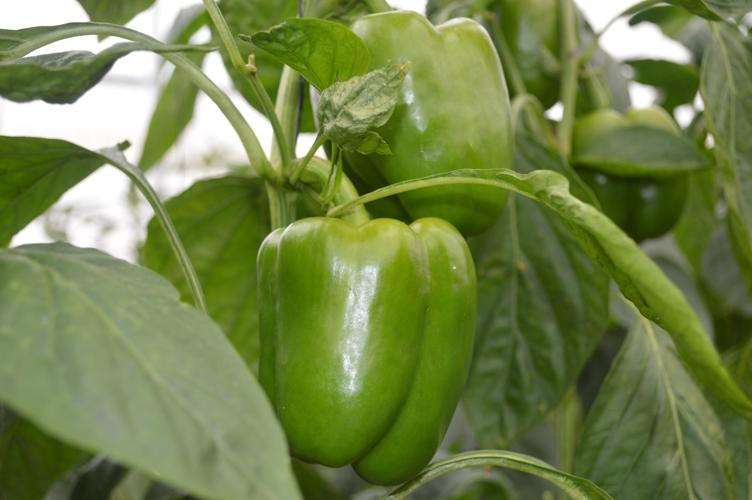BellPepper: (255, 218, 476, 487), (322, 12, 510, 229), (573, 105, 690, 240)
